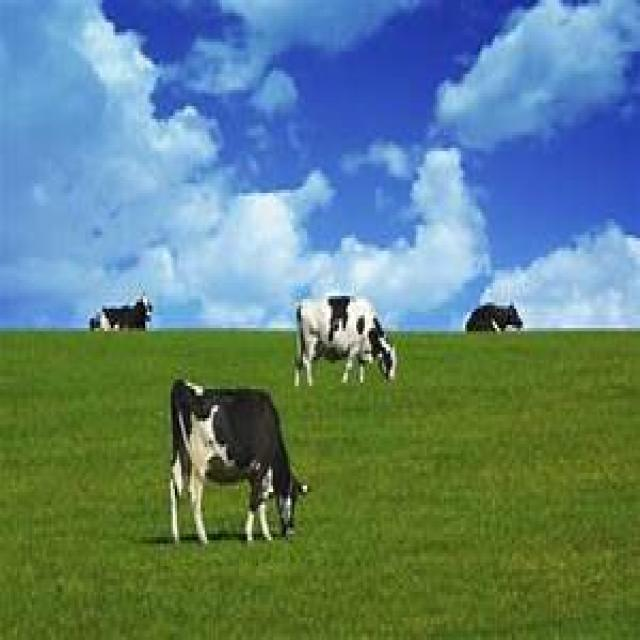cow: (166, 379, 309, 550), (297, 296, 397, 389), (90, 296, 151, 334), (465, 299, 523, 338)
